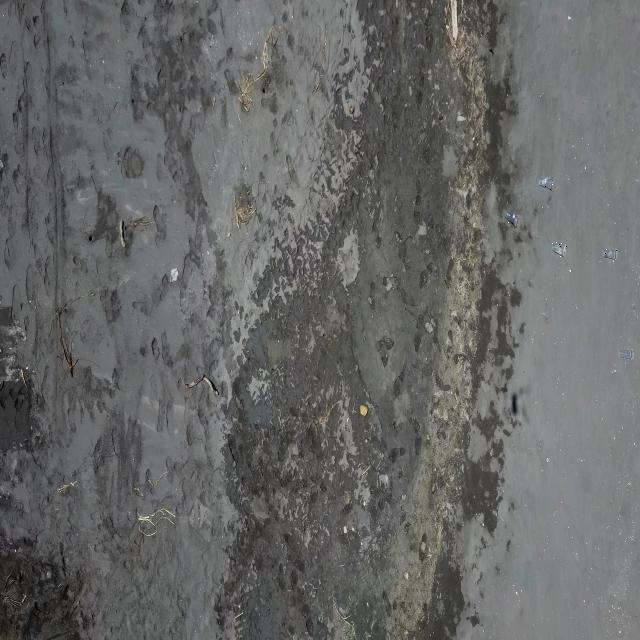takeaway-cup: (552, 240, 568, 256), (538, 175, 553, 192), (602, 247, 618, 262), (506, 212, 520, 226)
